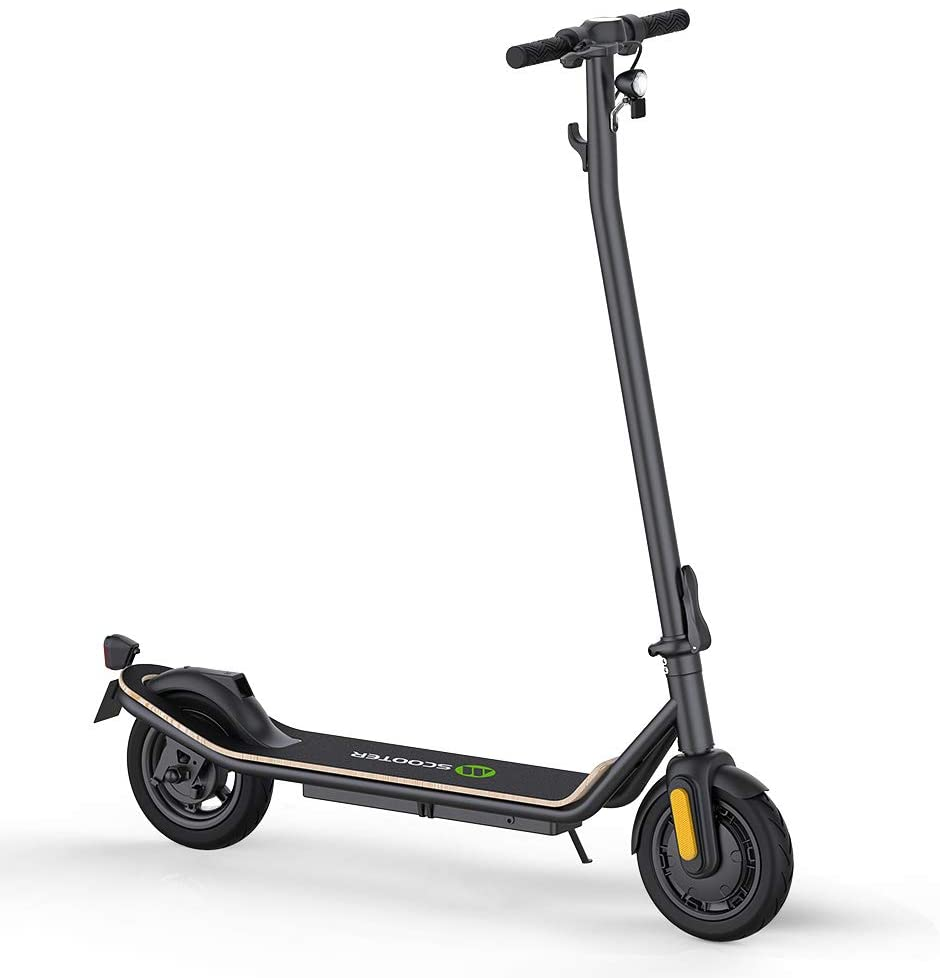scooter: (92, 2, 797, 949)
